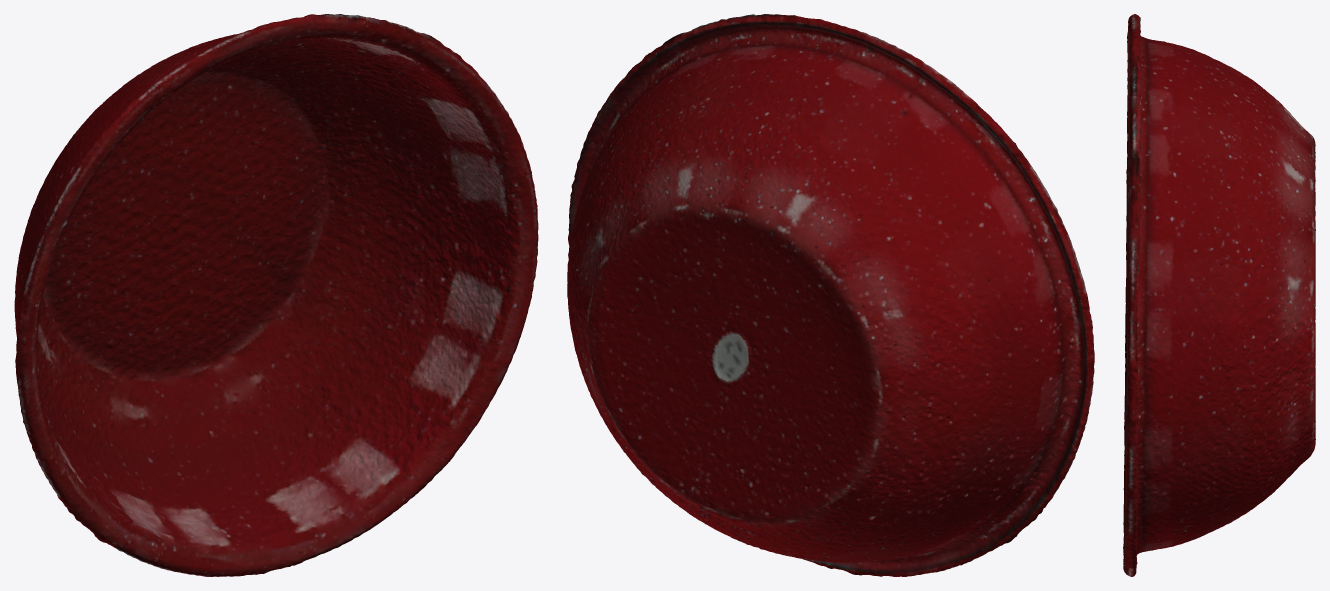
File: nontextured_simplified.obj
The picture shows the model from 3 angles, left to right: view 1: azimuth 30°, elevation 25°; view 2: azimuth 150°, elevation 25°; view 3: azimuth 270°, elevation 25°; orthographic projection. The views are drawn at different scales.
Visible parts, largest first — view 1: nontextured_simplified.ply; view 2: nontextured_simplified.ply; view 3: nontextured_simplified.ply.
Part boxes in pixels (box(x1,y1,x2,y2)): nontextured_simplified.ply: box(14, 14, 538, 576); nontextured_simplified.ply: box(567, 14, 1094, 576); nontextured_simplified.ply: box(1123, 14, 1315, 576).
Size of the model in its own units: 0.1613 by 0.1609 by 0.055.
